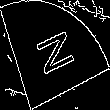N_W: (31, 27, 79, 83)
